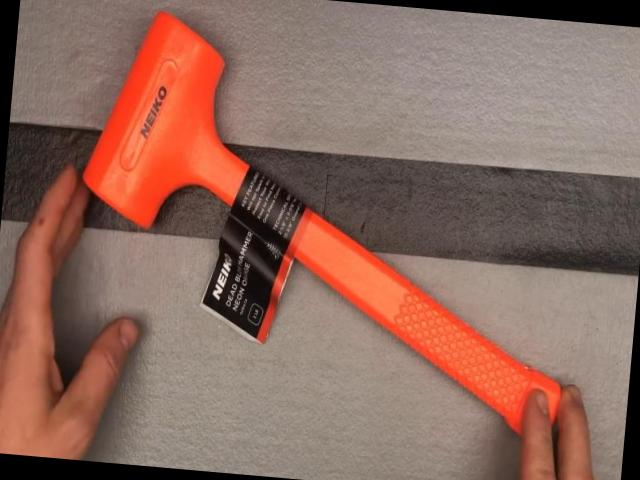hammer: (60, 2, 595, 441)
